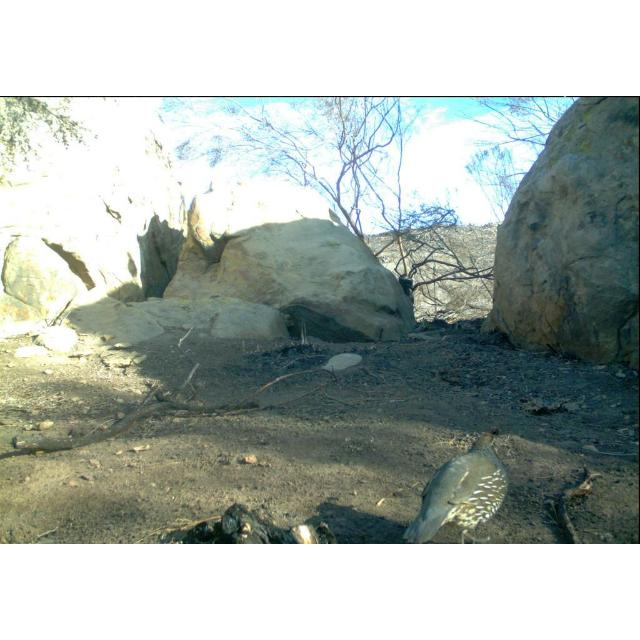animals: (404, 428, 506, 544)
